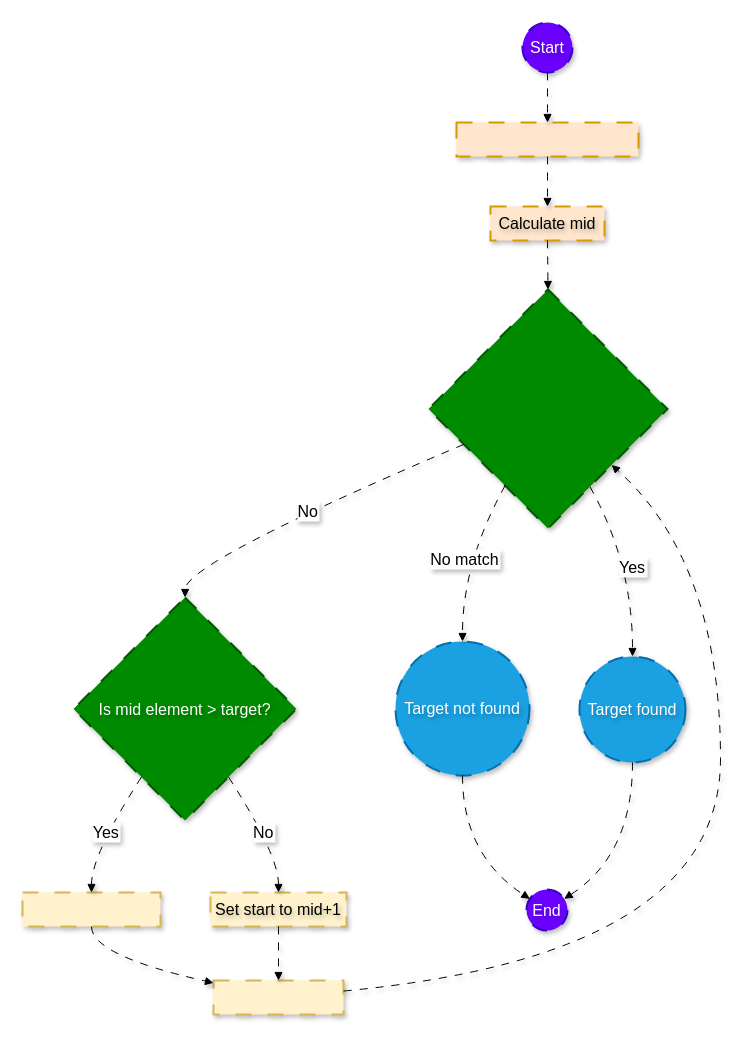
Some shapes in this 738 by 1039 pixel diagram are drawn without their labels. Each missing label, with the centre of its shape:
Initialize start=0, end=5: (548,140)
Is mid element the target?: (548,410)
Recalculate mid: (279,998)
Set end to mid-1: (92,910)
